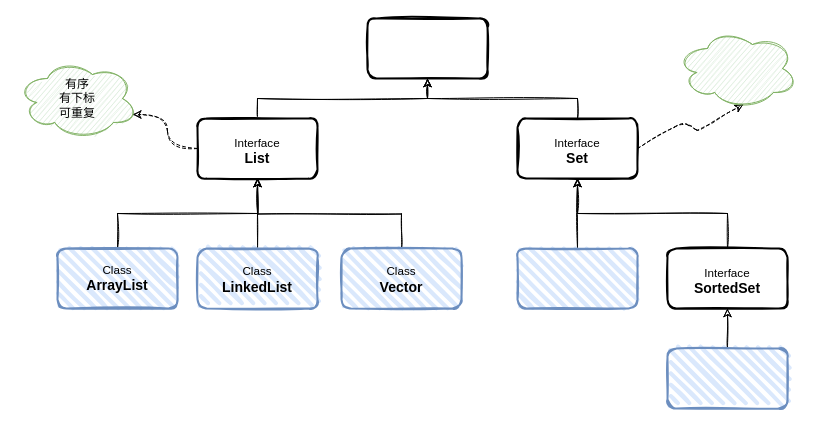
Some shapes in this 815 by 426 pixel diagram are drawn without their labels. The shapes that lost their labels are listed below. From the top down, each one's box as (x1, y1, x2, y2) in pixels, then its label:
(366, 17, 488, 79): Interface Collection
(676, 28, 798, 108): 无序 无下标 不能重复
(516, 247, 638, 309): Class HashSet
(666, 347, 788, 409): Class TreeSet
